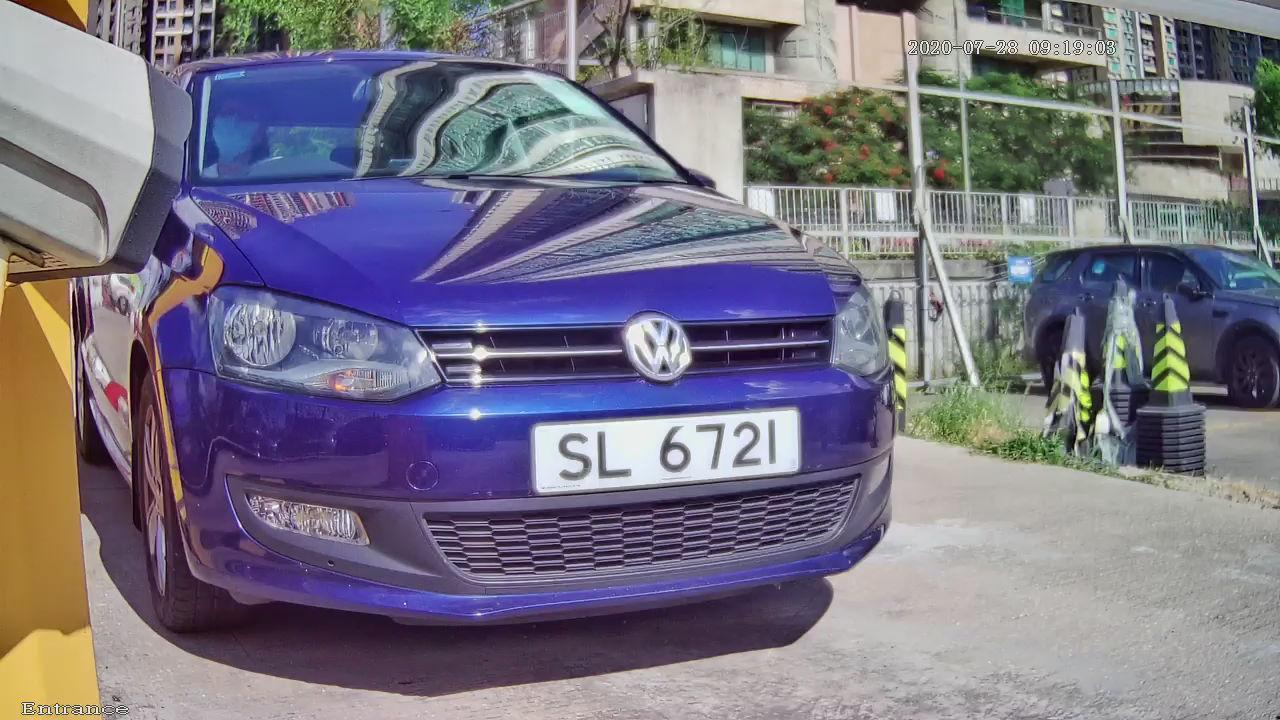privatecar: (1, 20, 1012, 672)
